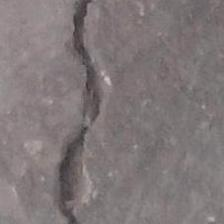Crack: (33, 0, 152, 224)
